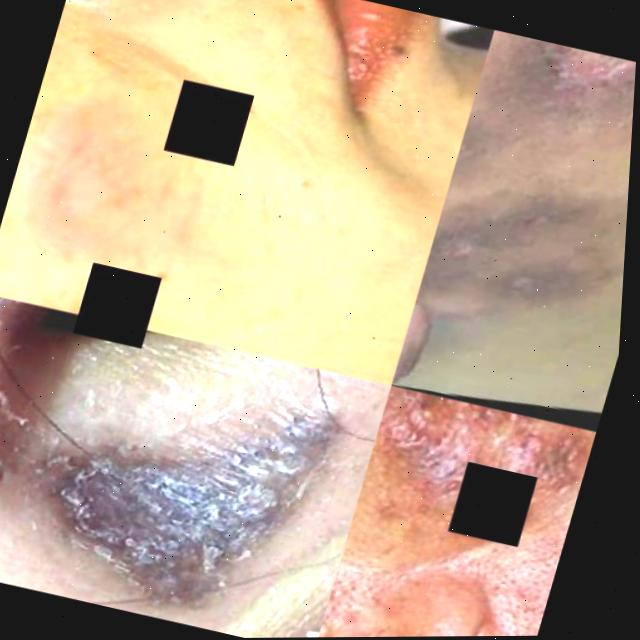lupus-detected: (0, 295, 356, 640), (0, 40, 293, 347), (387, 186, 629, 432), (437, 27, 638, 261), (348, 382, 599, 569), (313, 467, 574, 637)
